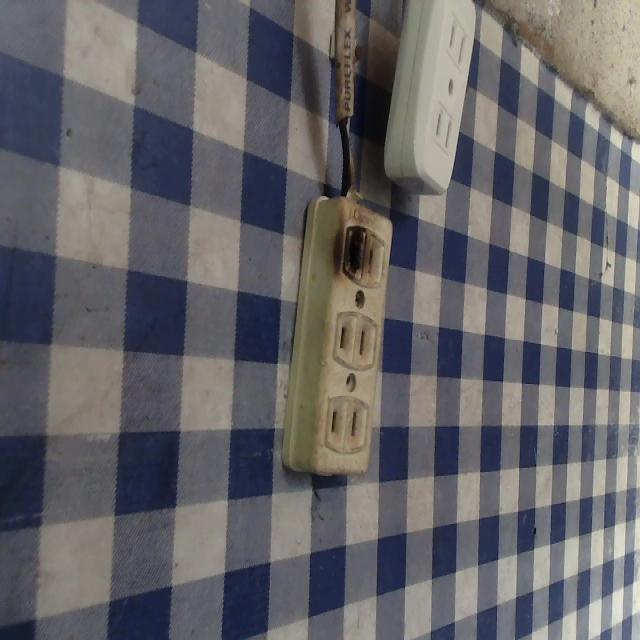-: (335, 216, 370, 285)
